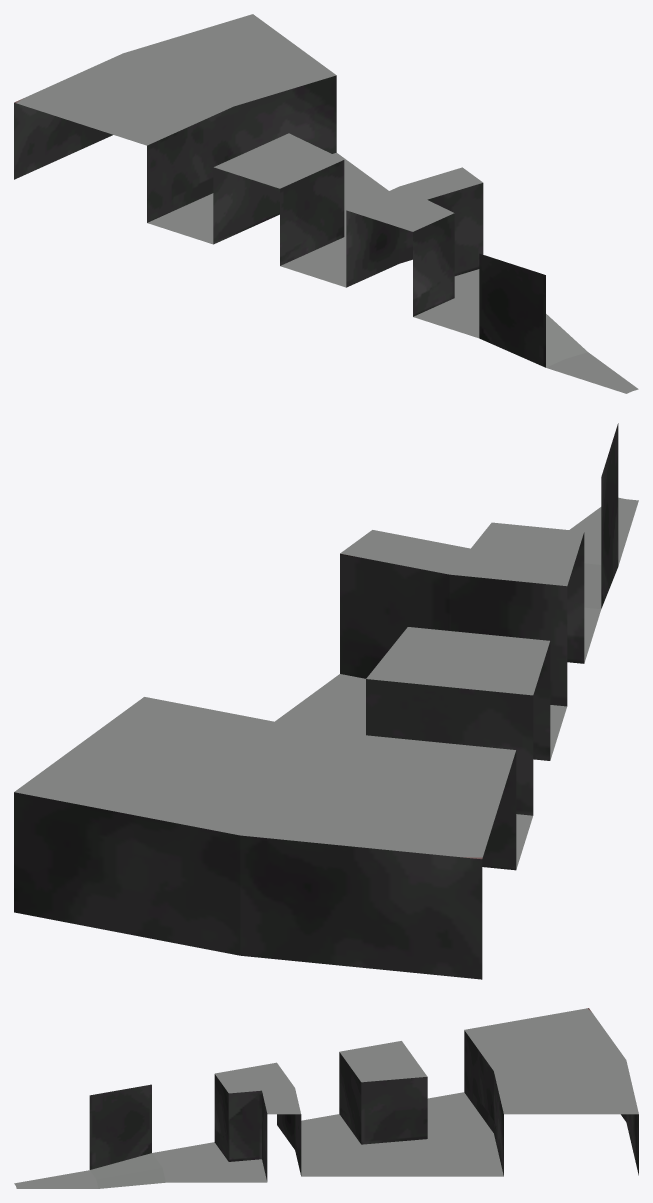
Rendered from bottom_16.obj.
3 renders of one model, top to bottom at view 1: azimuth 30°, elevation 25°; view 2: azimuth 150°, elevation 25°; view 3: azimuth 270°, elevation 25°, orthographic. The views are drawn at different scales.
Visible parts, largest first — view 1: Cylinder.017; view 2: Cylinder.017; view 3: Cylinder.017.
Part boxes in pixels (x1,y1,x2,y2): Cylinder.017: [14, 14, 638, 393]; Cylinder.017: [14, 423, 638, 979]; Cylinder.017: [14, 1008, 638, 1188].
Bounding box in the file's own units: 14.62 × 4.8 × 36.36.
